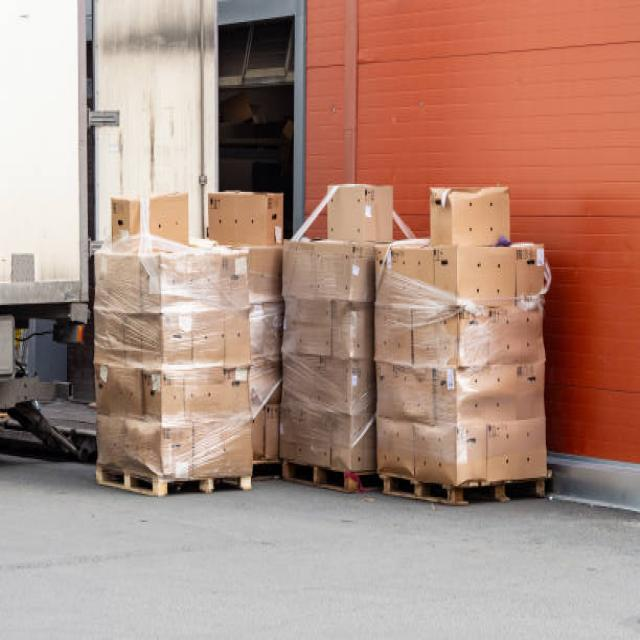Wooden-Pallets: (94, 457, 466, 510), (376, 467, 555, 512), (92, 457, 258, 503), (278, 453, 373, 499)
